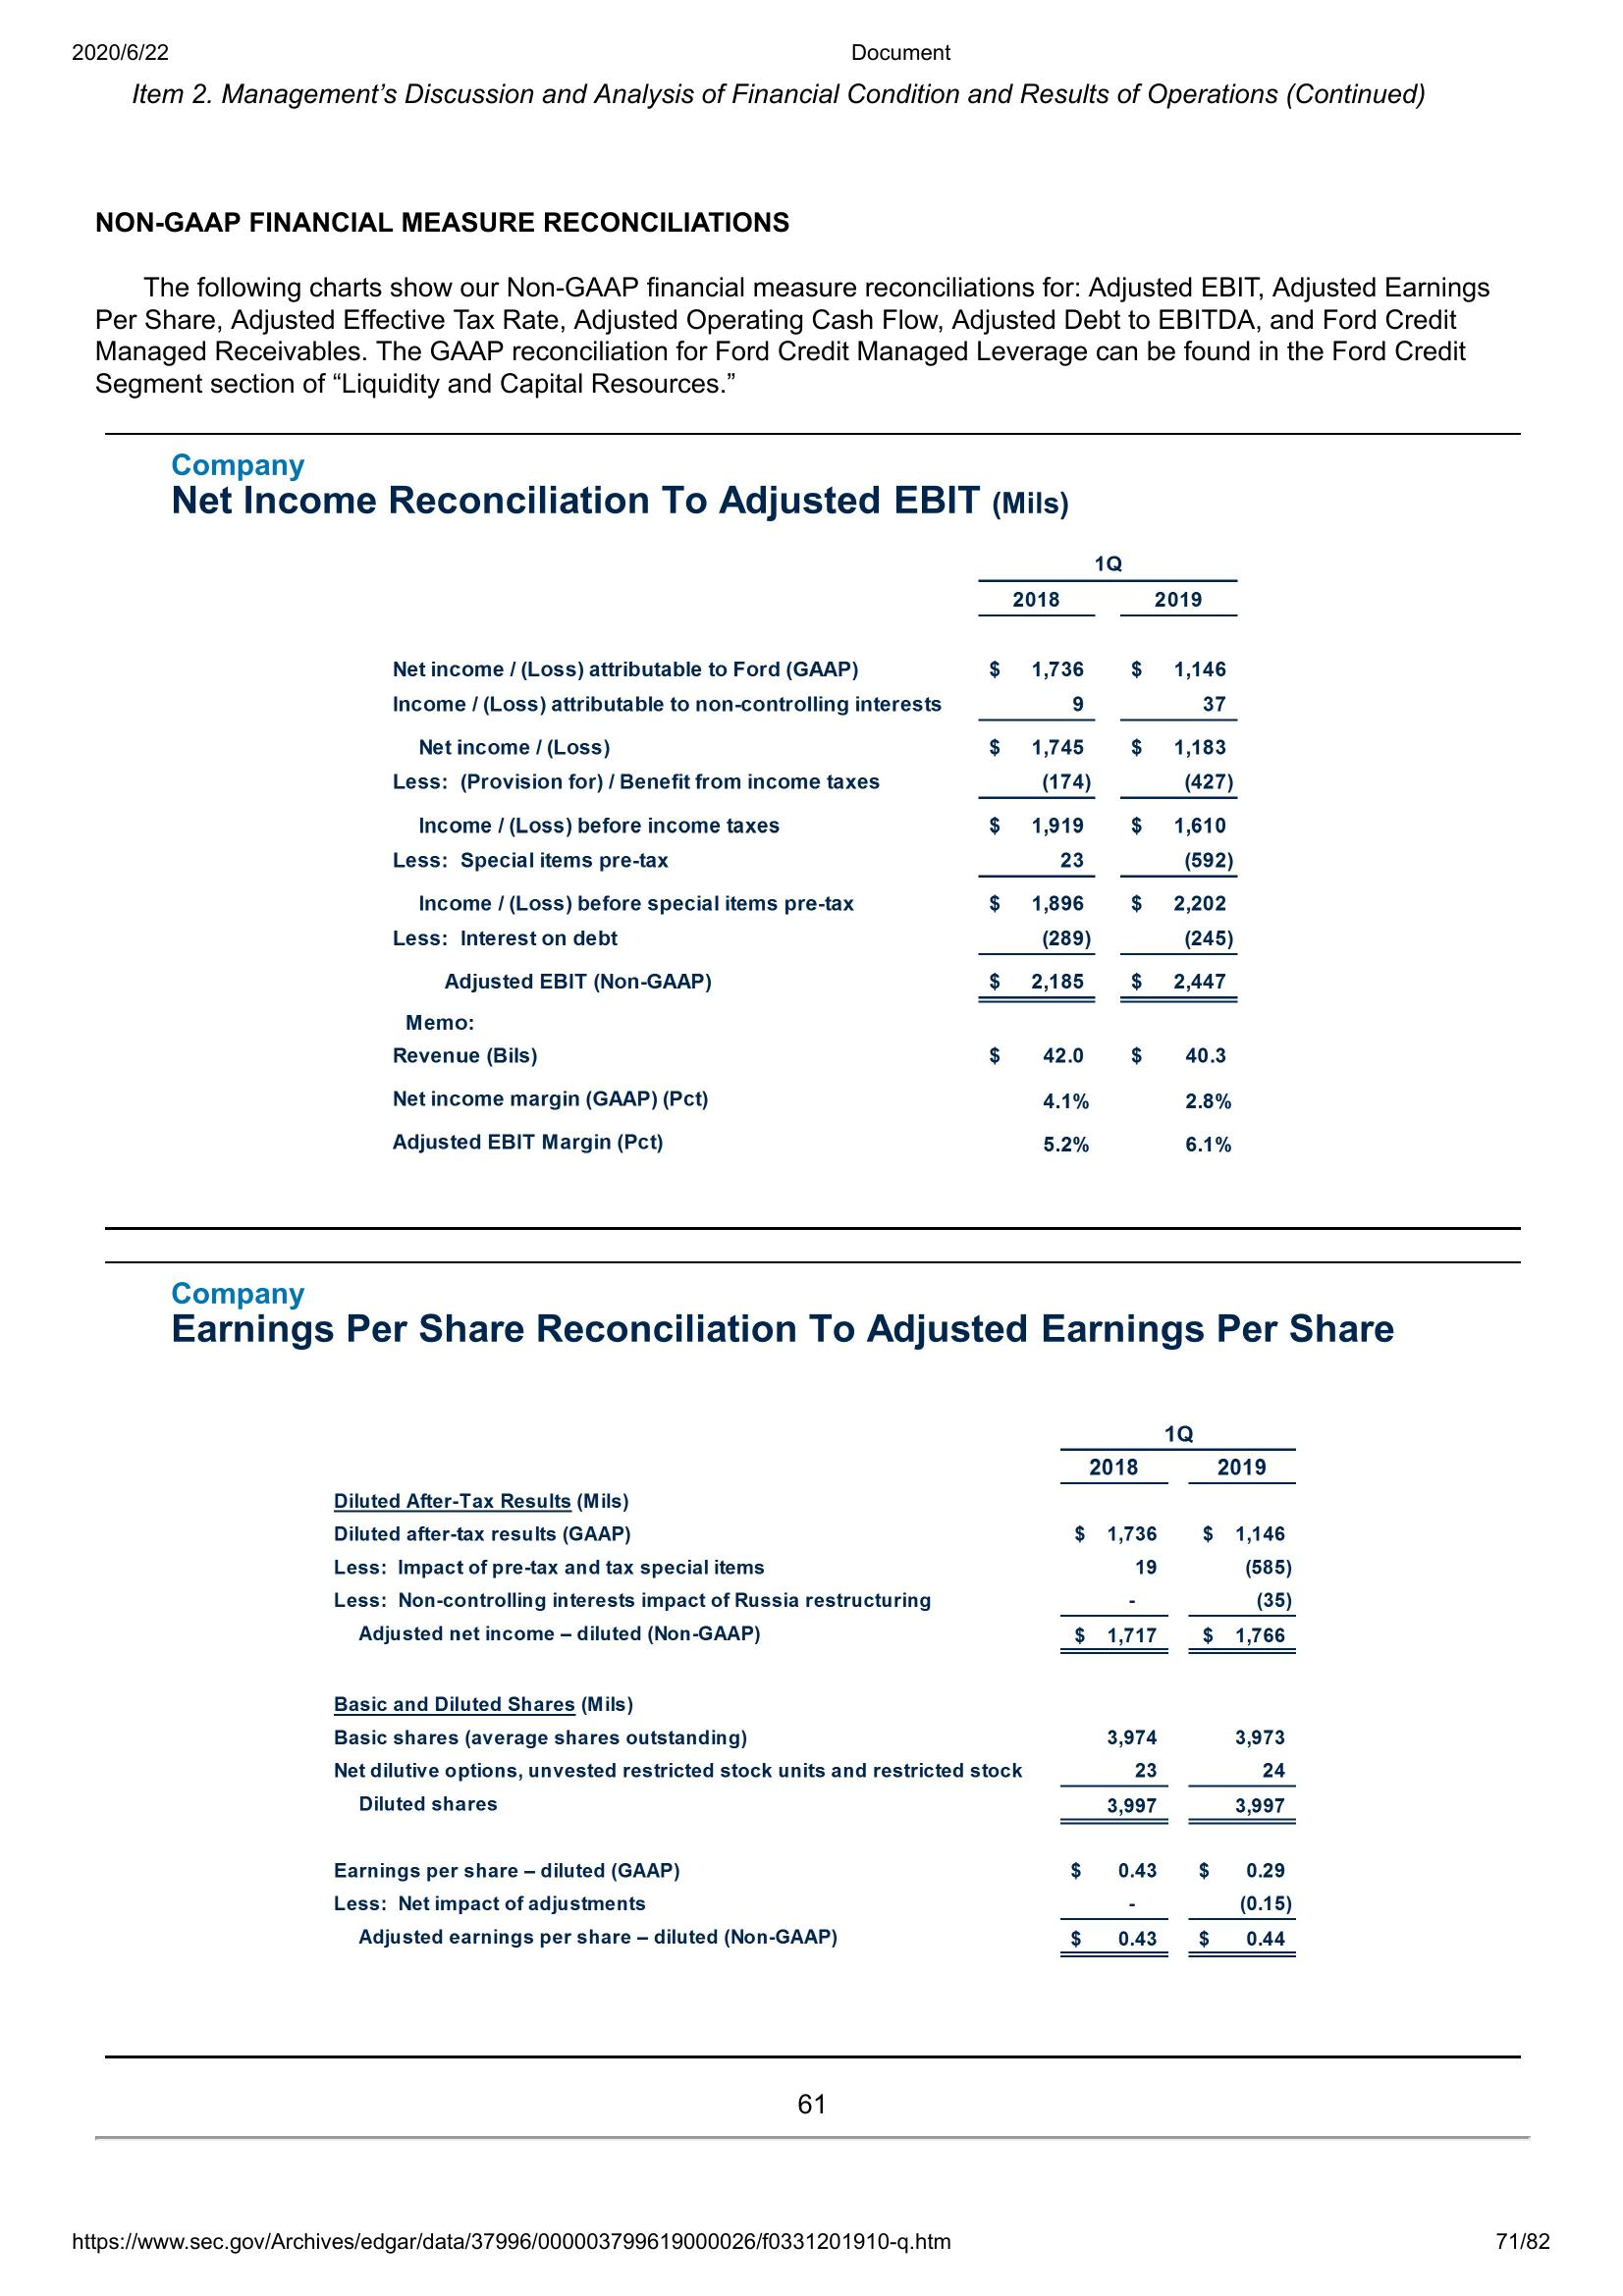table: (327, 1420, 1305, 1964), (385, 556, 1242, 1164)
